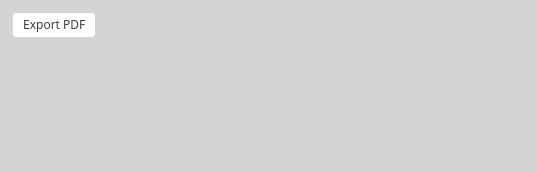
Test case: PdfExport › reports a request that never reached the server
The image size is (537, 172).
Click the button "Export PDF": (54, 25) [12,12,96,38]
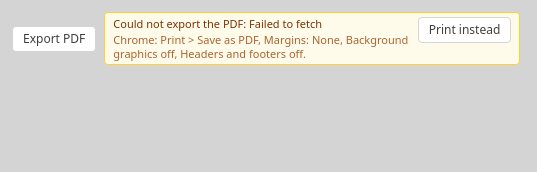
Result: the message shows "Could not export the PDF: Failed to fetch" at [113,16,322,31]
